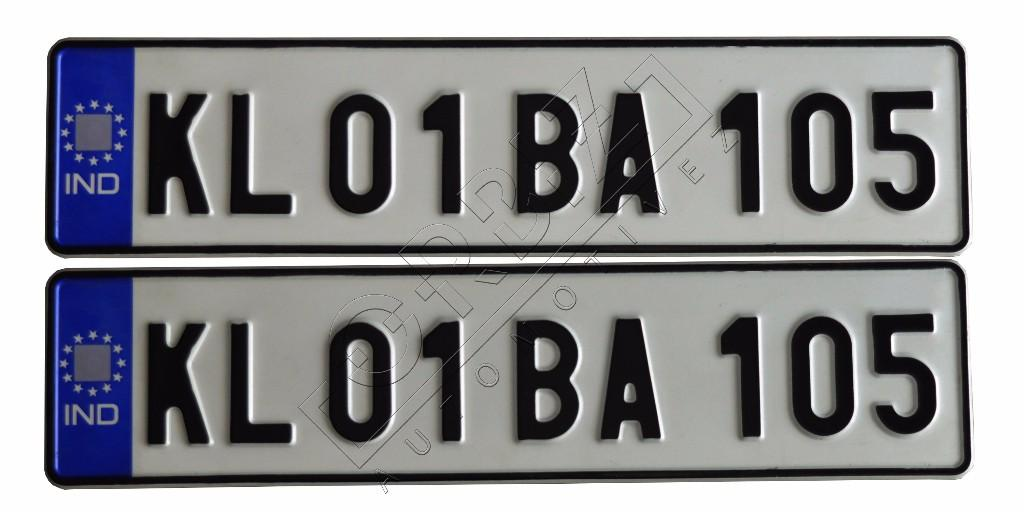inlp: (37, 251, 978, 504), (35, 26, 985, 261)
